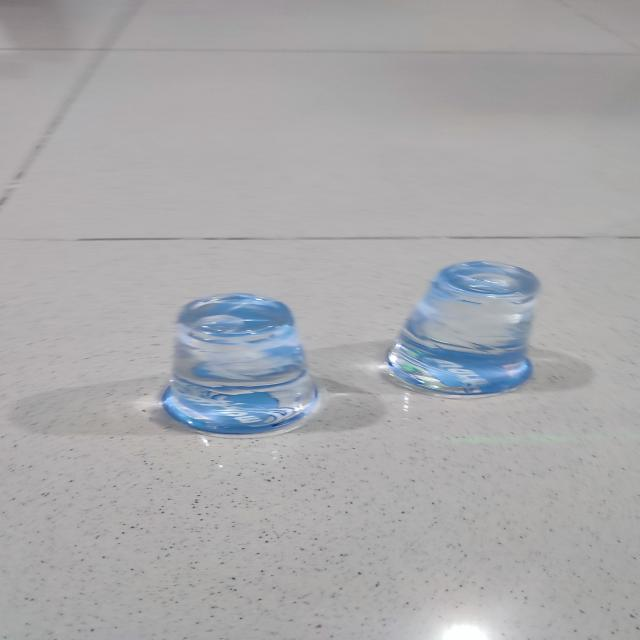air gelas: (376, 251, 554, 404), (159, 286, 328, 435)
